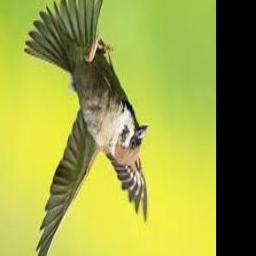Sparrow: (24, 0, 148, 256)
